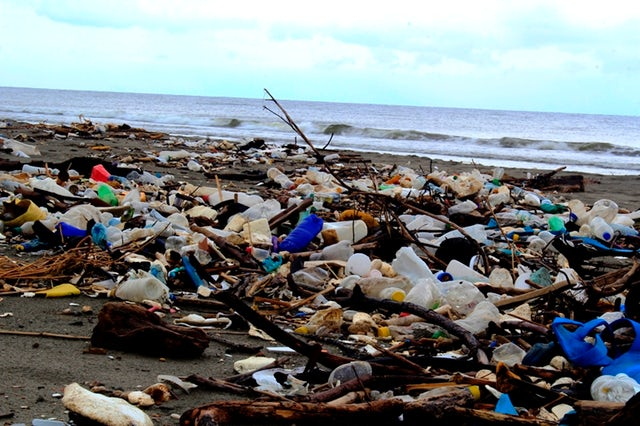litter: (92, 260, 207, 319), (57, 375, 170, 426), (541, 300, 623, 369), (87, 213, 176, 251), (263, 207, 331, 251), (454, 298, 513, 339), (426, 162, 491, 199), (403, 273, 456, 318), (295, 297, 346, 341), (593, 366, 640, 411), (383, 151, 430, 194), (394, 208, 452, 241), (251, 364, 309, 396), (315, 214, 373, 246), (355, 267, 408, 302), (1, 133, 56, 165), (9, 196, 54, 234), (489, 335, 538, 367), (203, 195, 252, 227), (368, 319, 427, 345), (332, 360, 378, 392), (582, 212, 619, 247), (484, 384, 523, 416), (34, 278, 91, 299), (233, 351, 273, 378), (516, 186, 554, 208), (265, 166, 297, 189), (85, 162, 111, 183), (543, 211, 568, 231), (178, 153, 206, 170)
